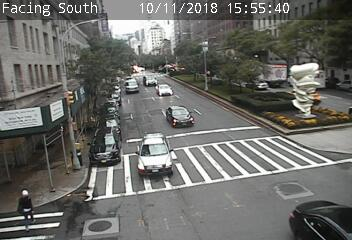car: (136, 132, 174, 175), (166, 106, 194, 128), (125, 79, 138, 94), (156, 84, 172, 96), (143, 75, 158, 87)
